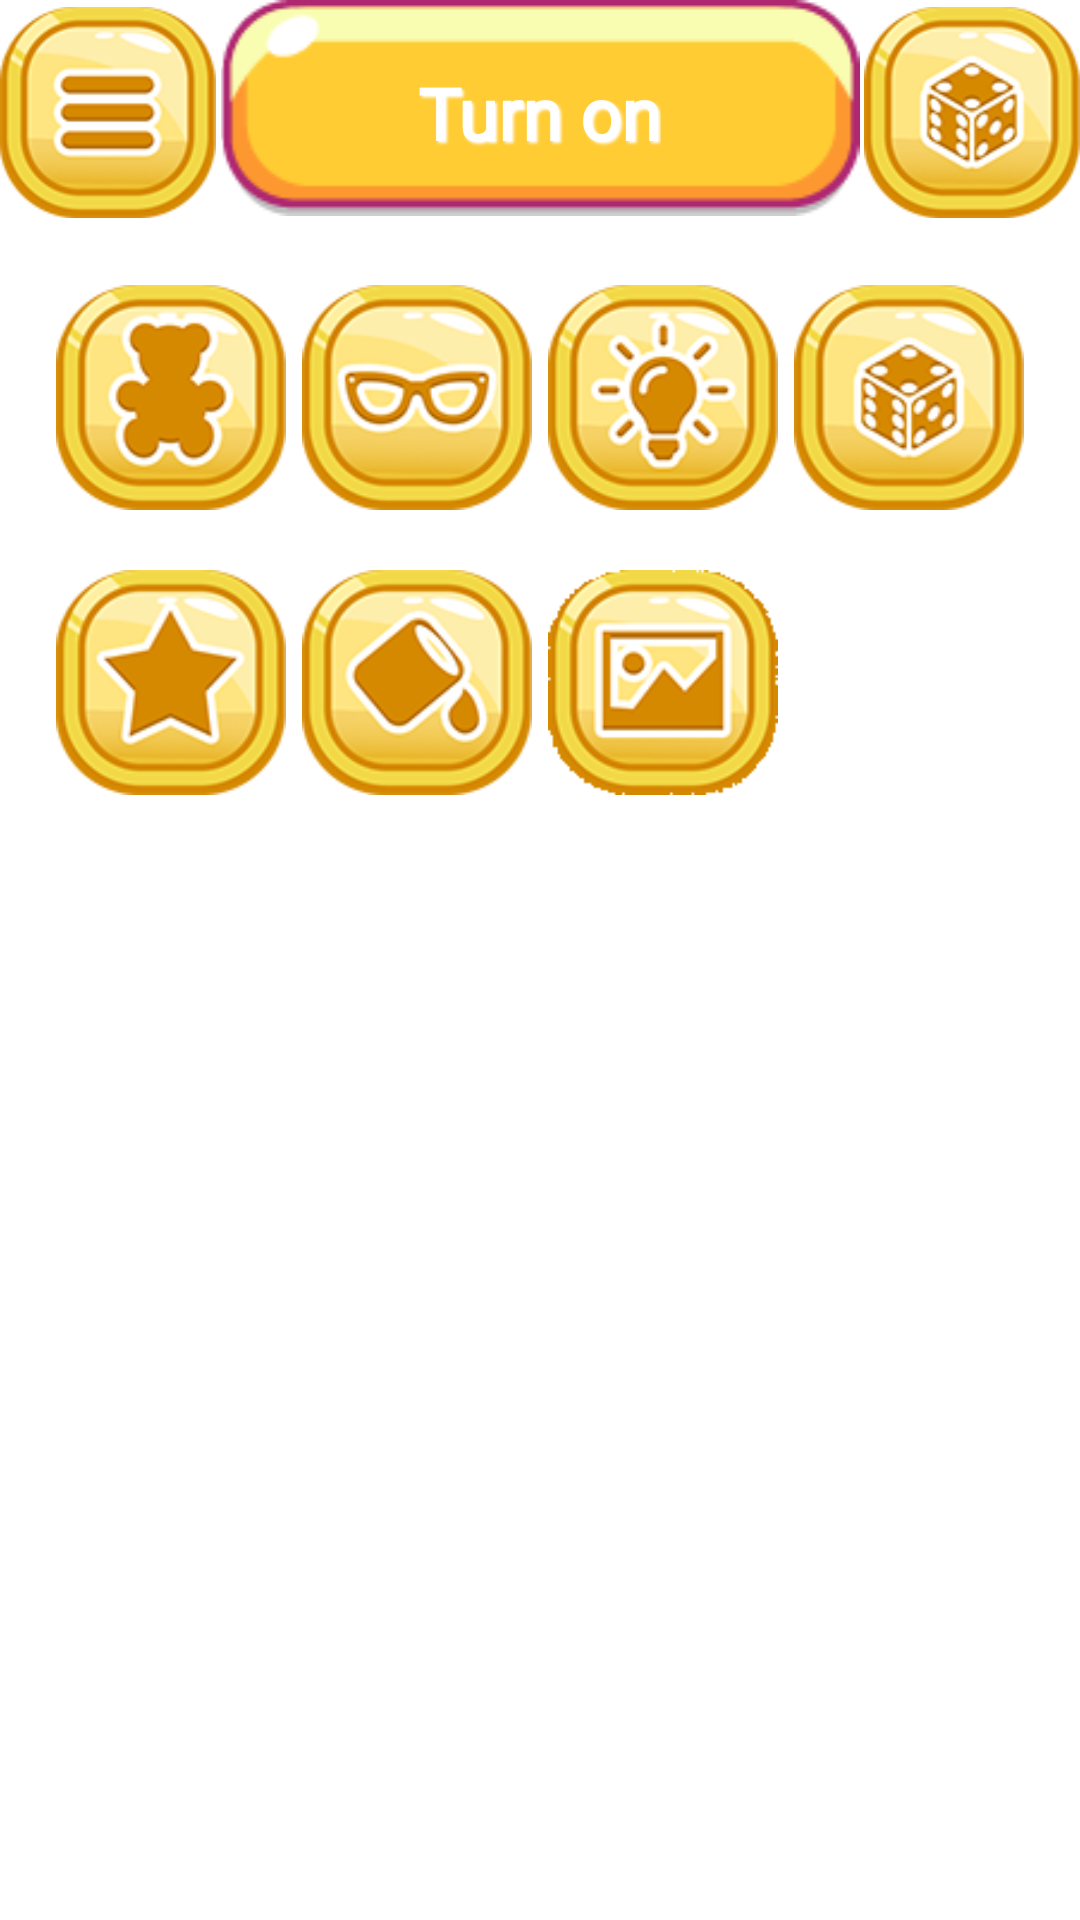

Icons on this 1080×1920 Android screen, each with its box as (x1, y1, x2, y2):
bear: (56, 285, 286, 510)
colors: (302, 570, 532, 795)
cube: (864, 7, 1080, 218), (794, 285, 1024, 510)
glasses: (302, 285, 532, 510)
images: (548, 570, 778, 795)
lamp: (548, 285, 778, 510)
menu: (0, 7, 216, 218)
star: (56, 570, 286, 795)
